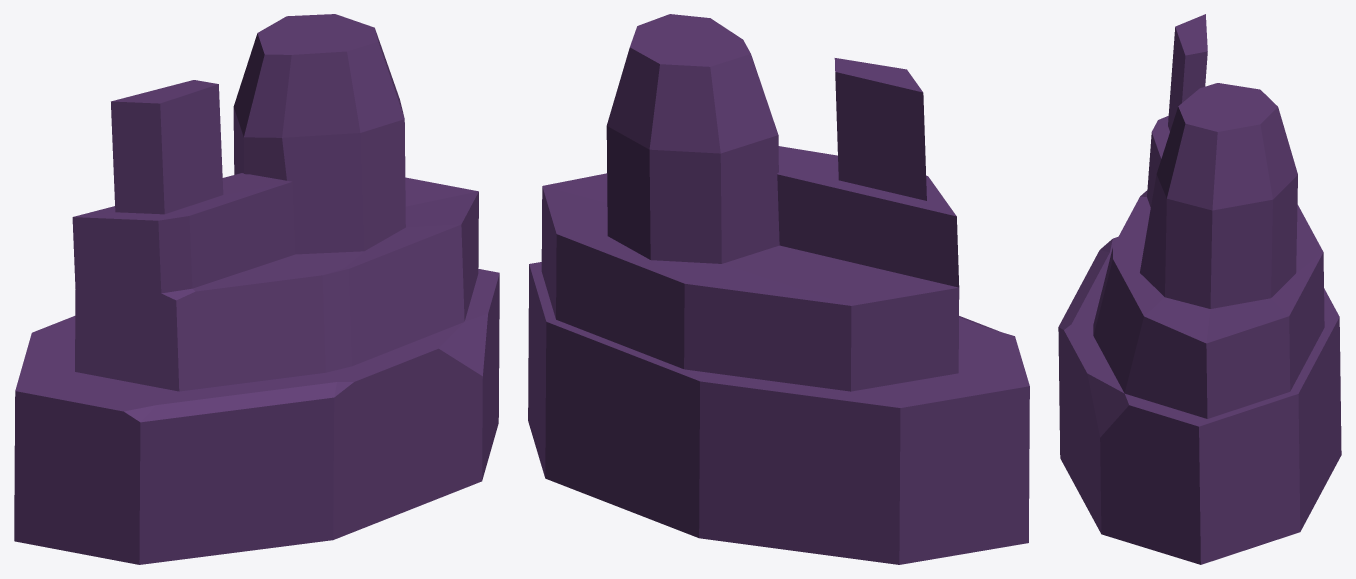
The model's file is Little_Rock_2.fbx.
The picture shows the model from 3 angles, left to right: view 1: azimuth 30°, elevation 25°; view 2: azimuth 150°, elevation 25°; view 3: azimuth 270°, elevation 25°; orthographic projection. The views are drawn at different scales.
Parts seen in each view (by area): view 1: Cylinder.001; view 2: Cylinder.001; view 3: Cylinder.001.
Boxes of the visible parts, x1,y1,x2,y2 form: Cylinder.001: [14, 14, 499, 564]; Cylinder.001: [528, 14, 1029, 564]; Cylinder.001: [1058, 14, 1341, 564].
Bounding box in the file's own units: 473 × 394 × 261.
